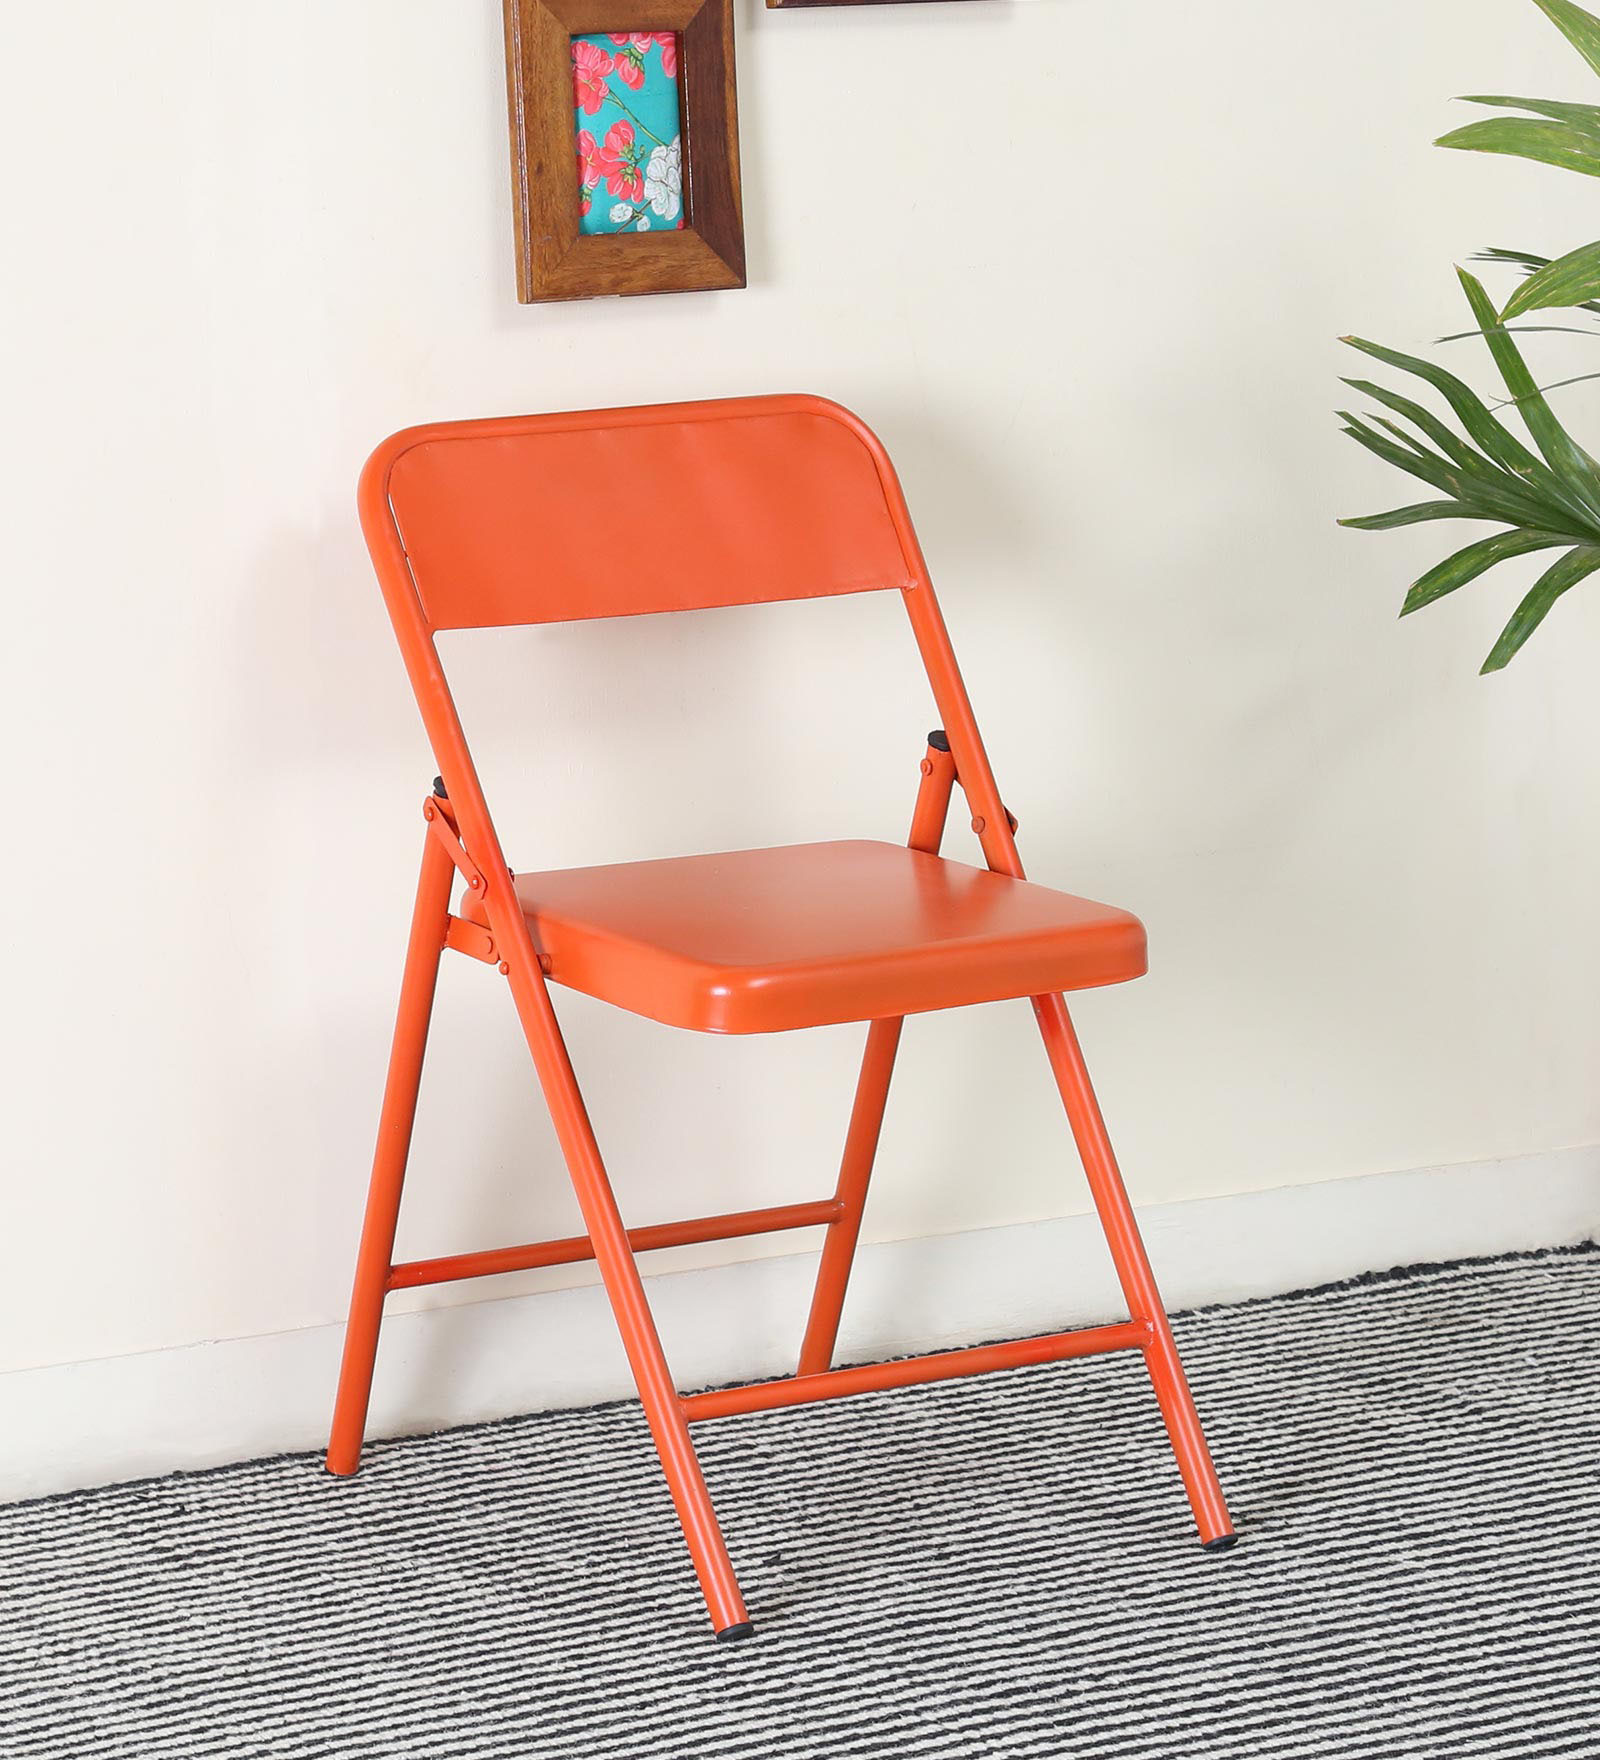Kell Folding Chair in Orange Color by Bohemiana: (271, 371, 1293, 1677)
